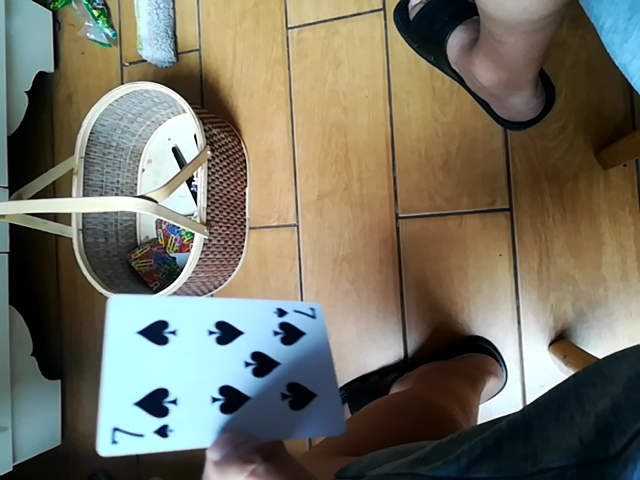ht 7: (94, 298, 339, 459)
